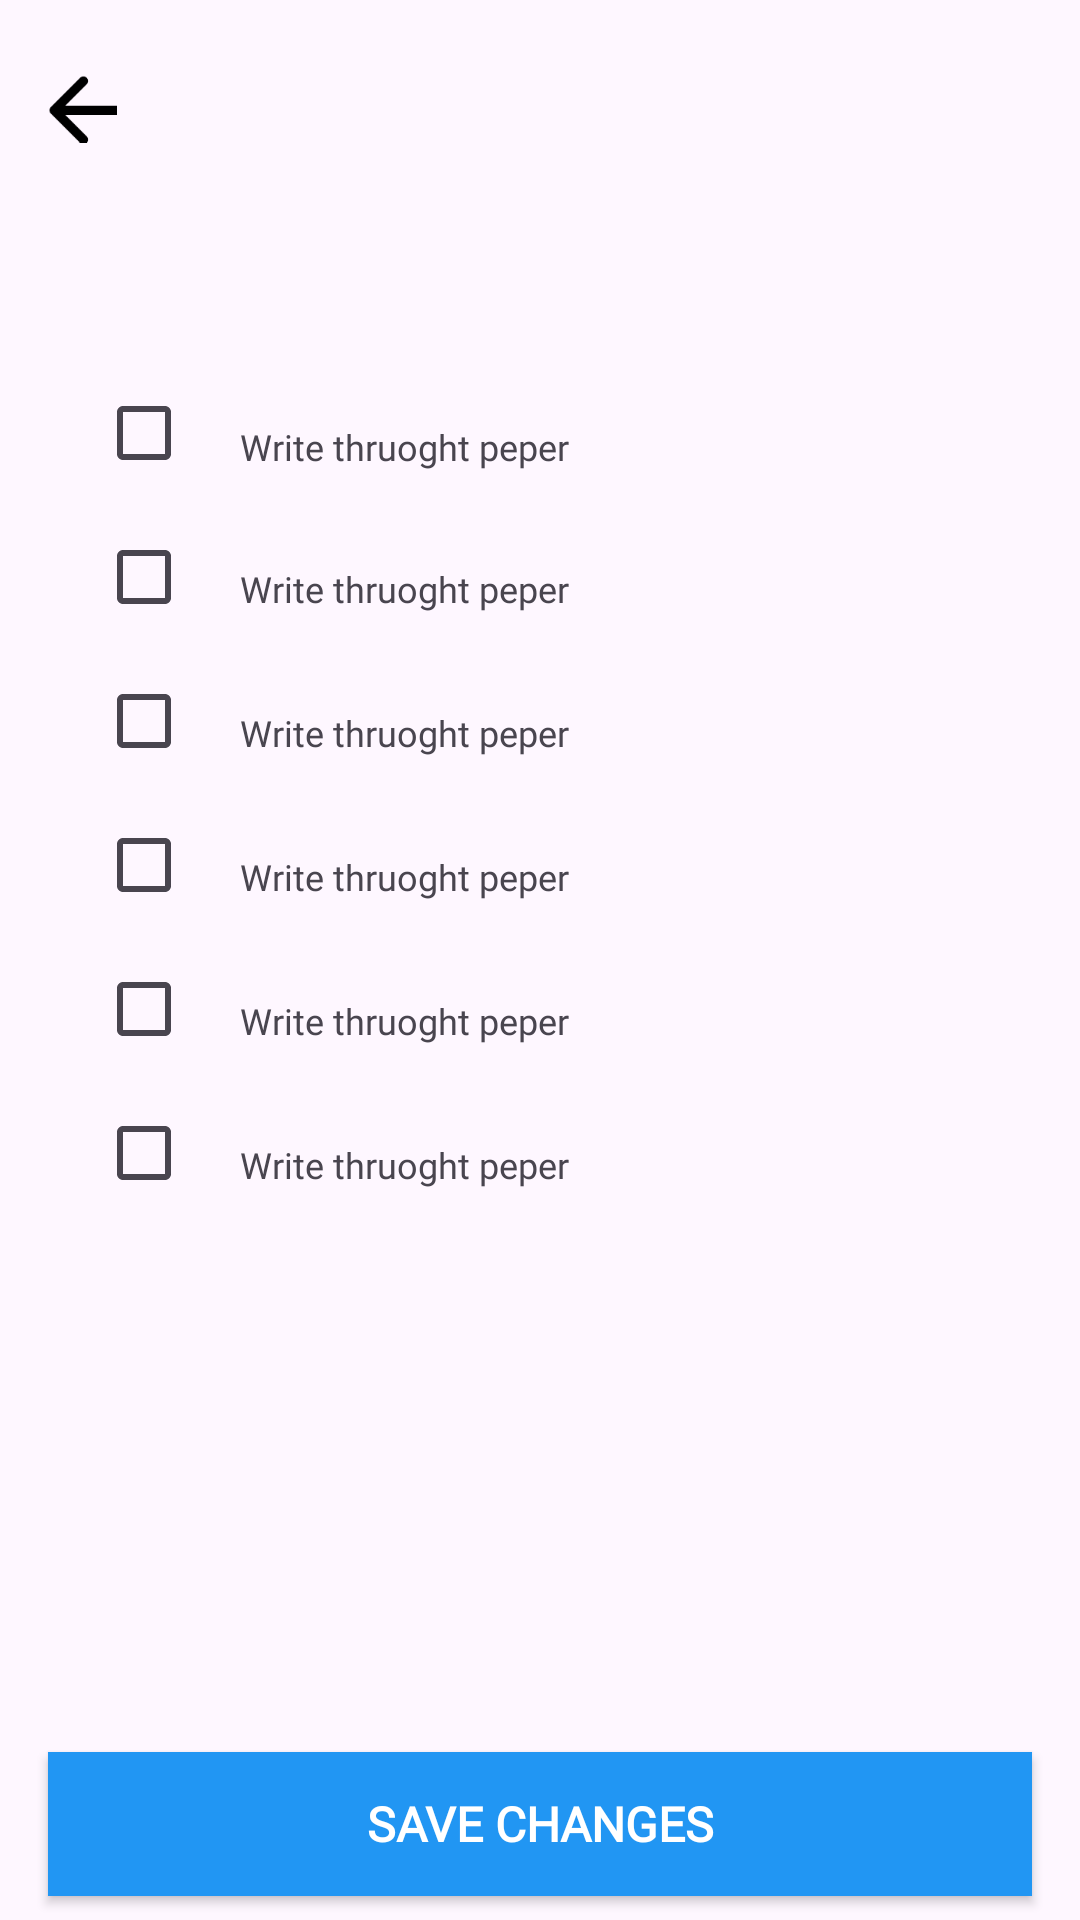

Icon click points for this 1080 × 1920 phone screenshot, format point (x, y):
arrow: point (83, 109)
